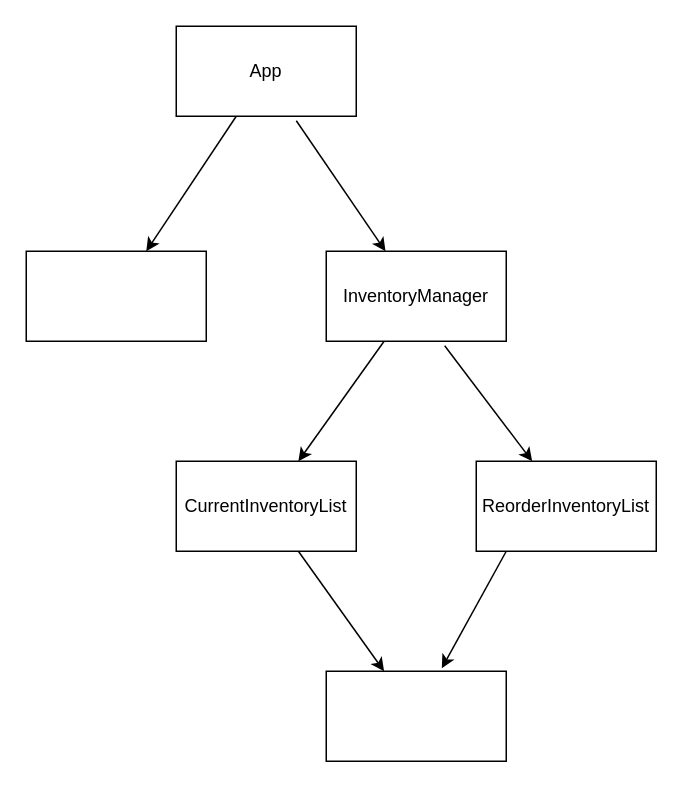
Some shapes in this 683 by 788 pixel diagram are drawn without their labels. The centre of each missing label's shape, as x and y in pixels:
"Header" belongs at point (115, 295).
"InventoryItemCard" belongs at point (415, 715).
